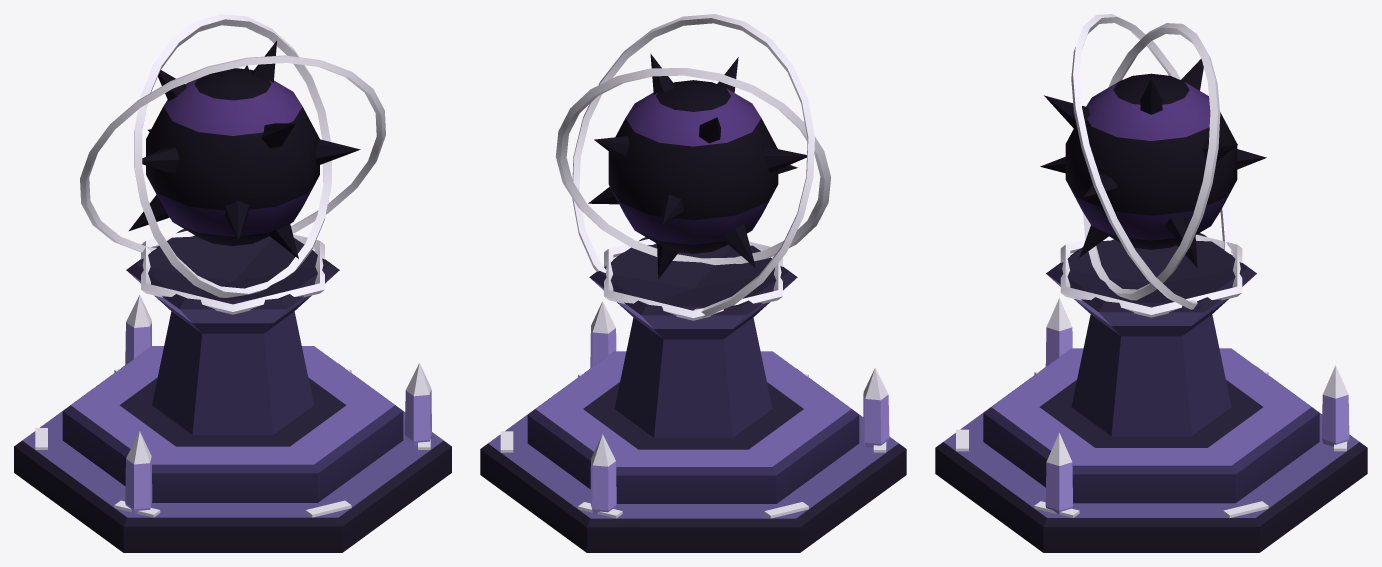
File: evolve_altar.glb
The picture shows the model from 3 angles, left to right: view 1: azimuth 30°, elevation 25°; view 2: azimuth 150°, elevation 25°; view 3: azimuth 270°, elevation 25°; orthographic projection. The views are drawn at different scales.
Parts seen in each view (by area): view 1: Body, Glow; view 2: Body, Glow; view 3: Body, Glow.
Part boxes in pixels (x1,y1,x2,y2): Body: (14, 41, 451, 552); Glow: (35, 14, 431, 517); Body: (480, 53, 906, 552); Glow: (500, 14, 889, 518); Body: (935, 58, 1367, 552); Glow: (956, 14, 1349, 517).
Bounding box in the file's own units: 2.34 × 3.02 × 2.7.
